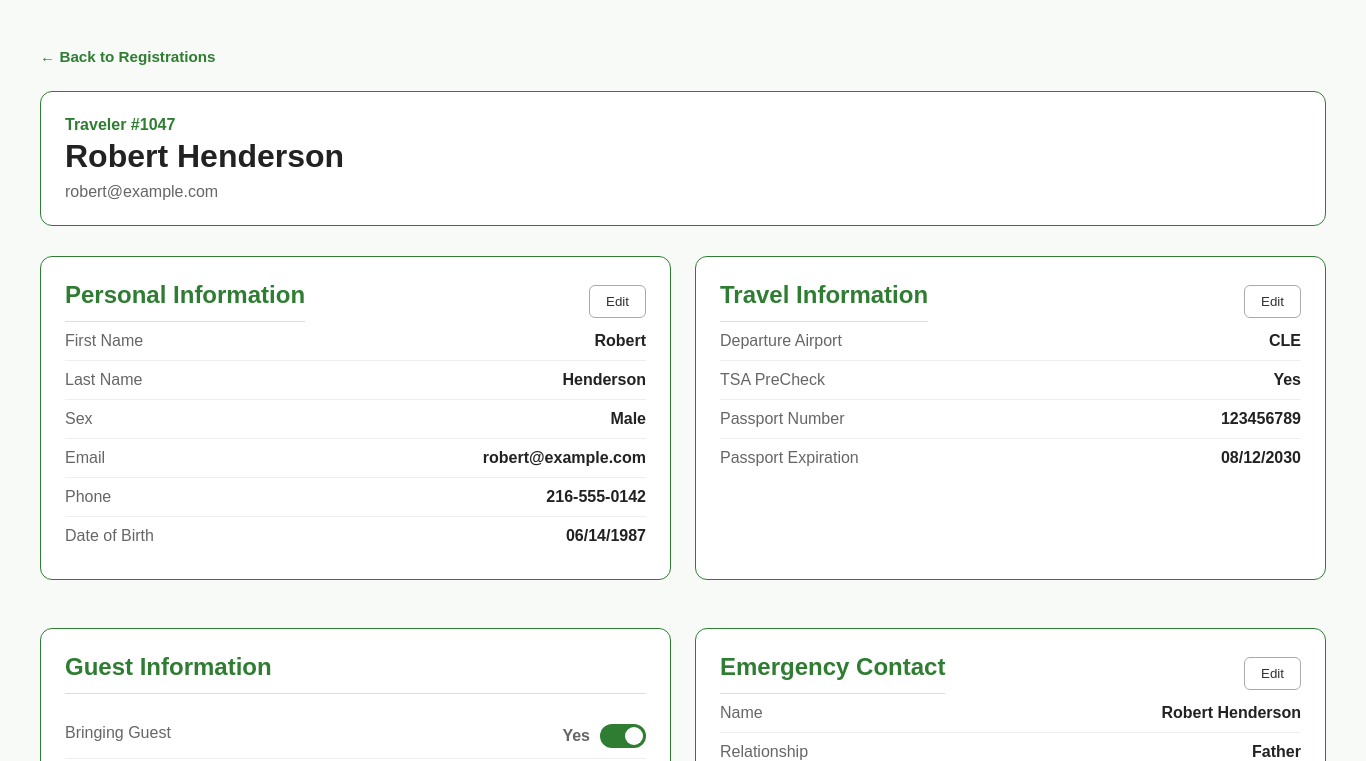
Test: RegistrationDetails › cancels personal information changes without saving them
Click the button "Edit" in the row of "Personal Information" at (618, 302), box [589,285,646,318]
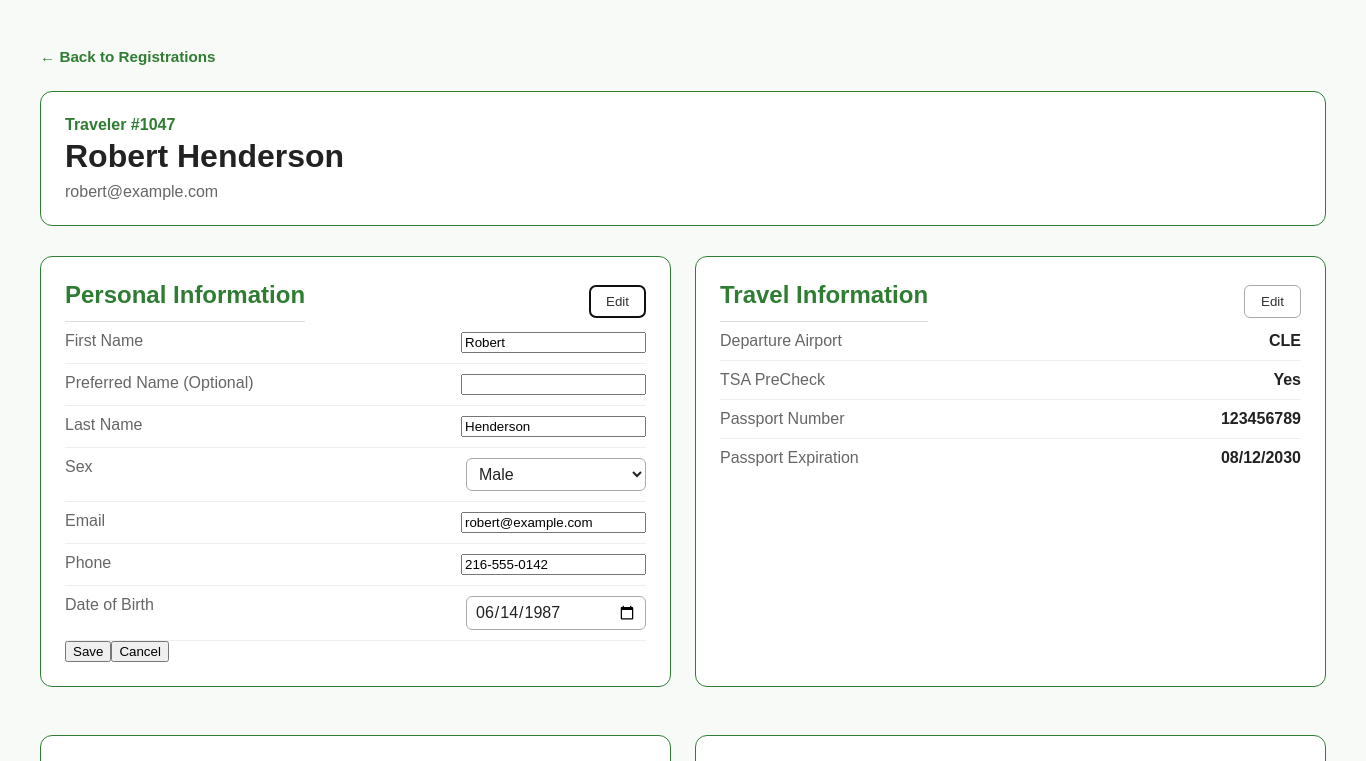
Replace the text in the field showing "Robert" in the row of "First Name" with "Bob" at (554, 342), box [461,332,646,353]
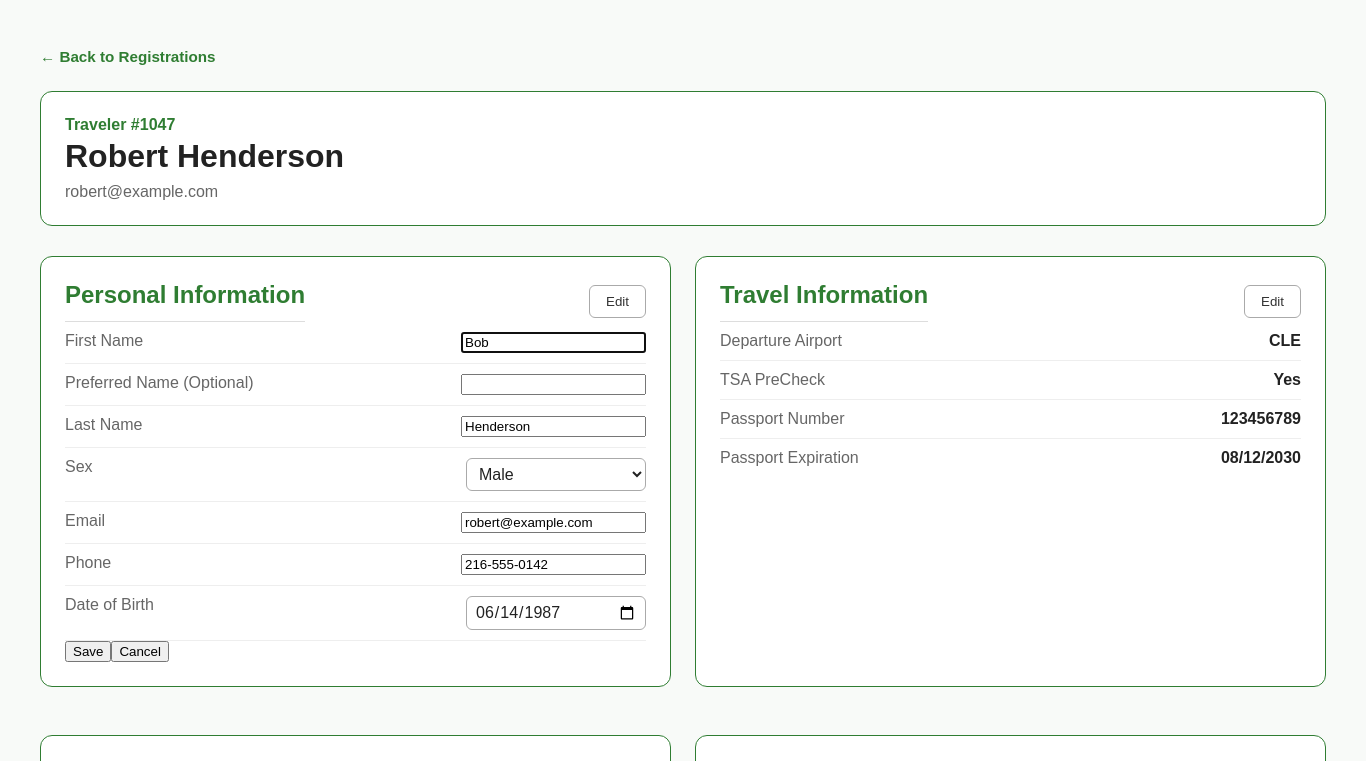
Select "Female" in the dropdown named "Sex" at (556, 474), box [466,458,646,491]
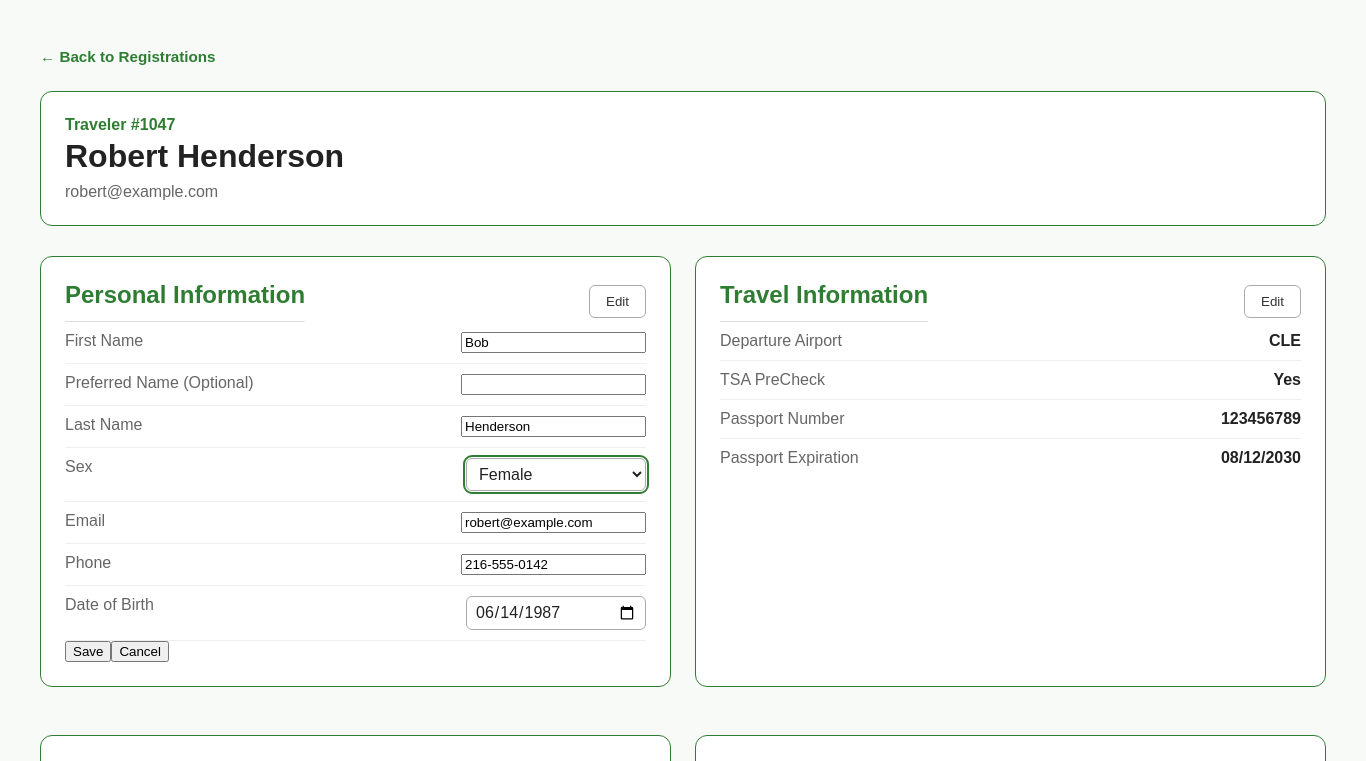
Type "1990-04-25" into the date field named "Date of Birth" at (556, 613), box [466,596,646,630]
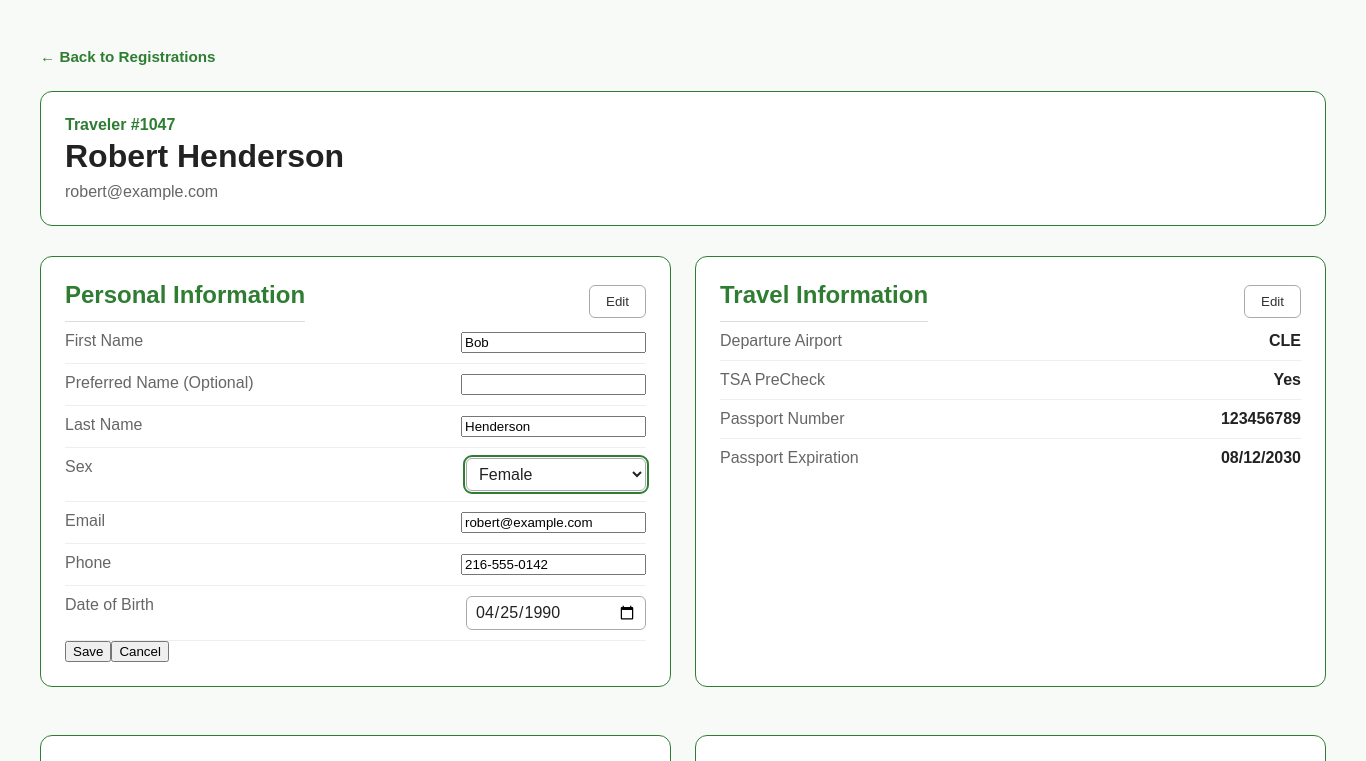
Click the button "Cancel" at (140, 652), box [111,641,169,662]
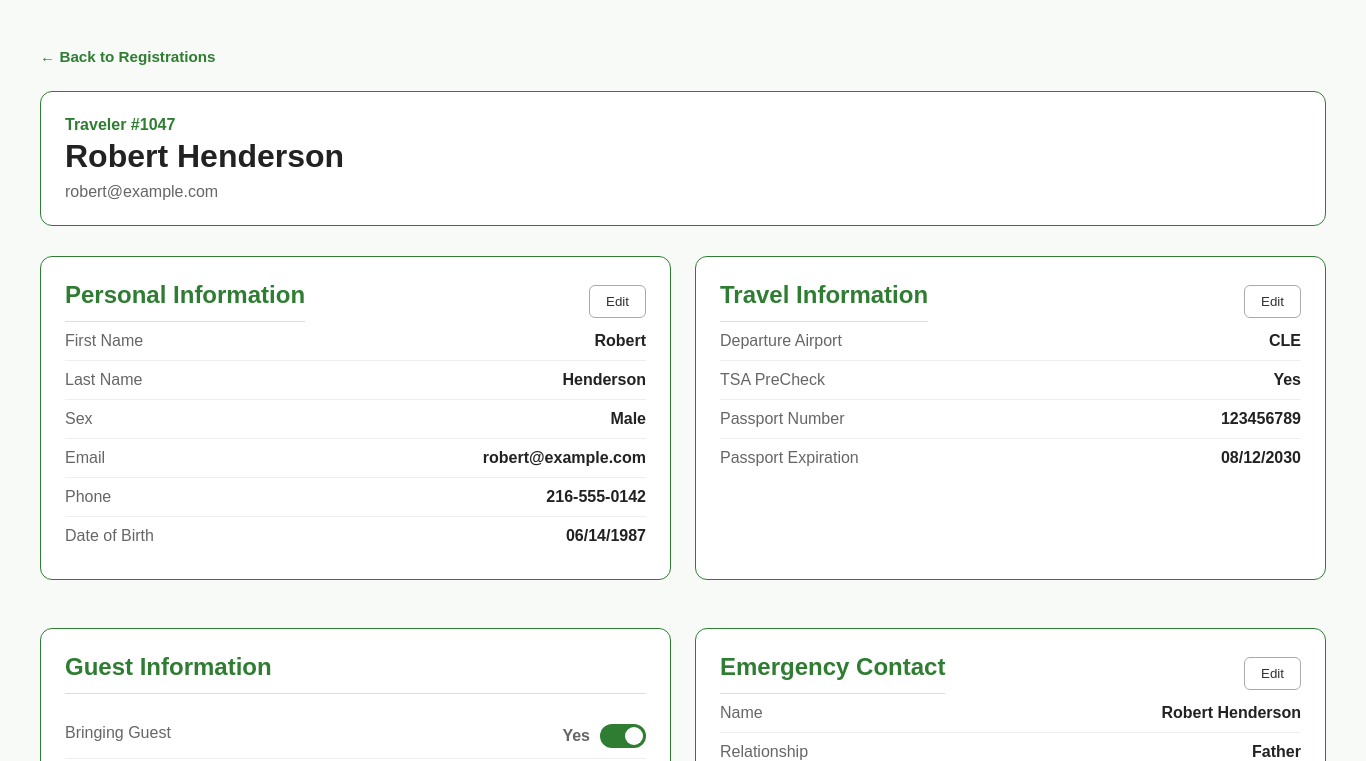
Expected: the field showing "Bob" is not shown
Expected: the text "Male" is shown, [610,410,646,428]
Expected: the text "06/14/1987" is shown, [566,527,646,545]
Click the button "Edit" in the row of "Personal Information" at (618, 302), box [589,285,646,318]
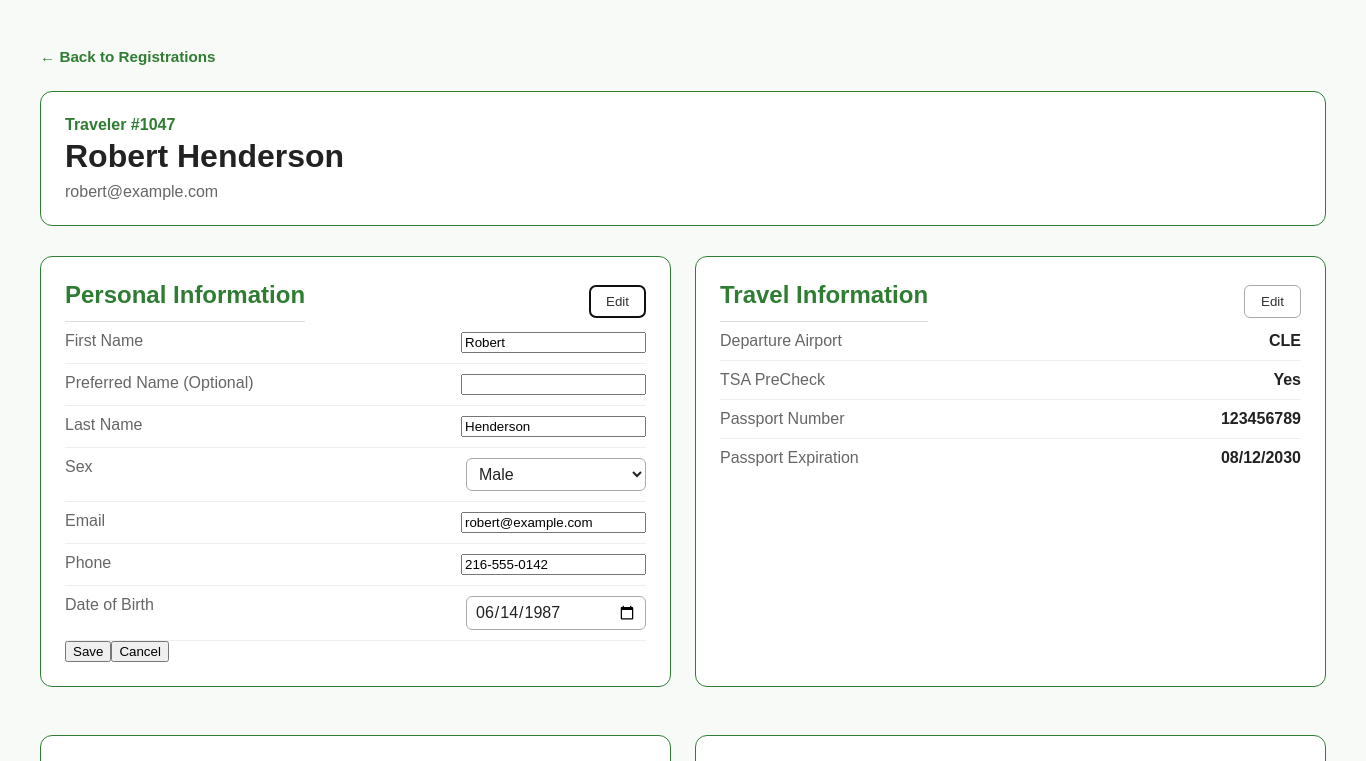
Expected: the dropdown named "Sex" shows "Male", [466,458,646,491]
Expected: the date field named "Date of Birth" holds "1987-06-14", [466,596,646,630]
